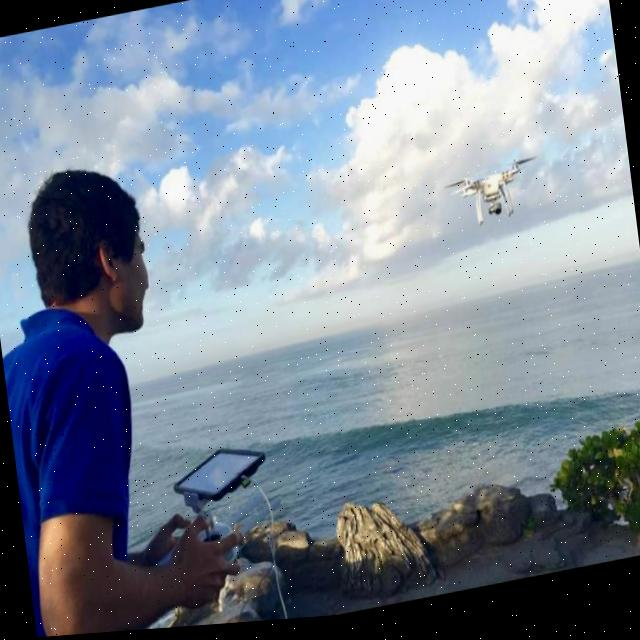drone: (440, 157, 546, 238)
